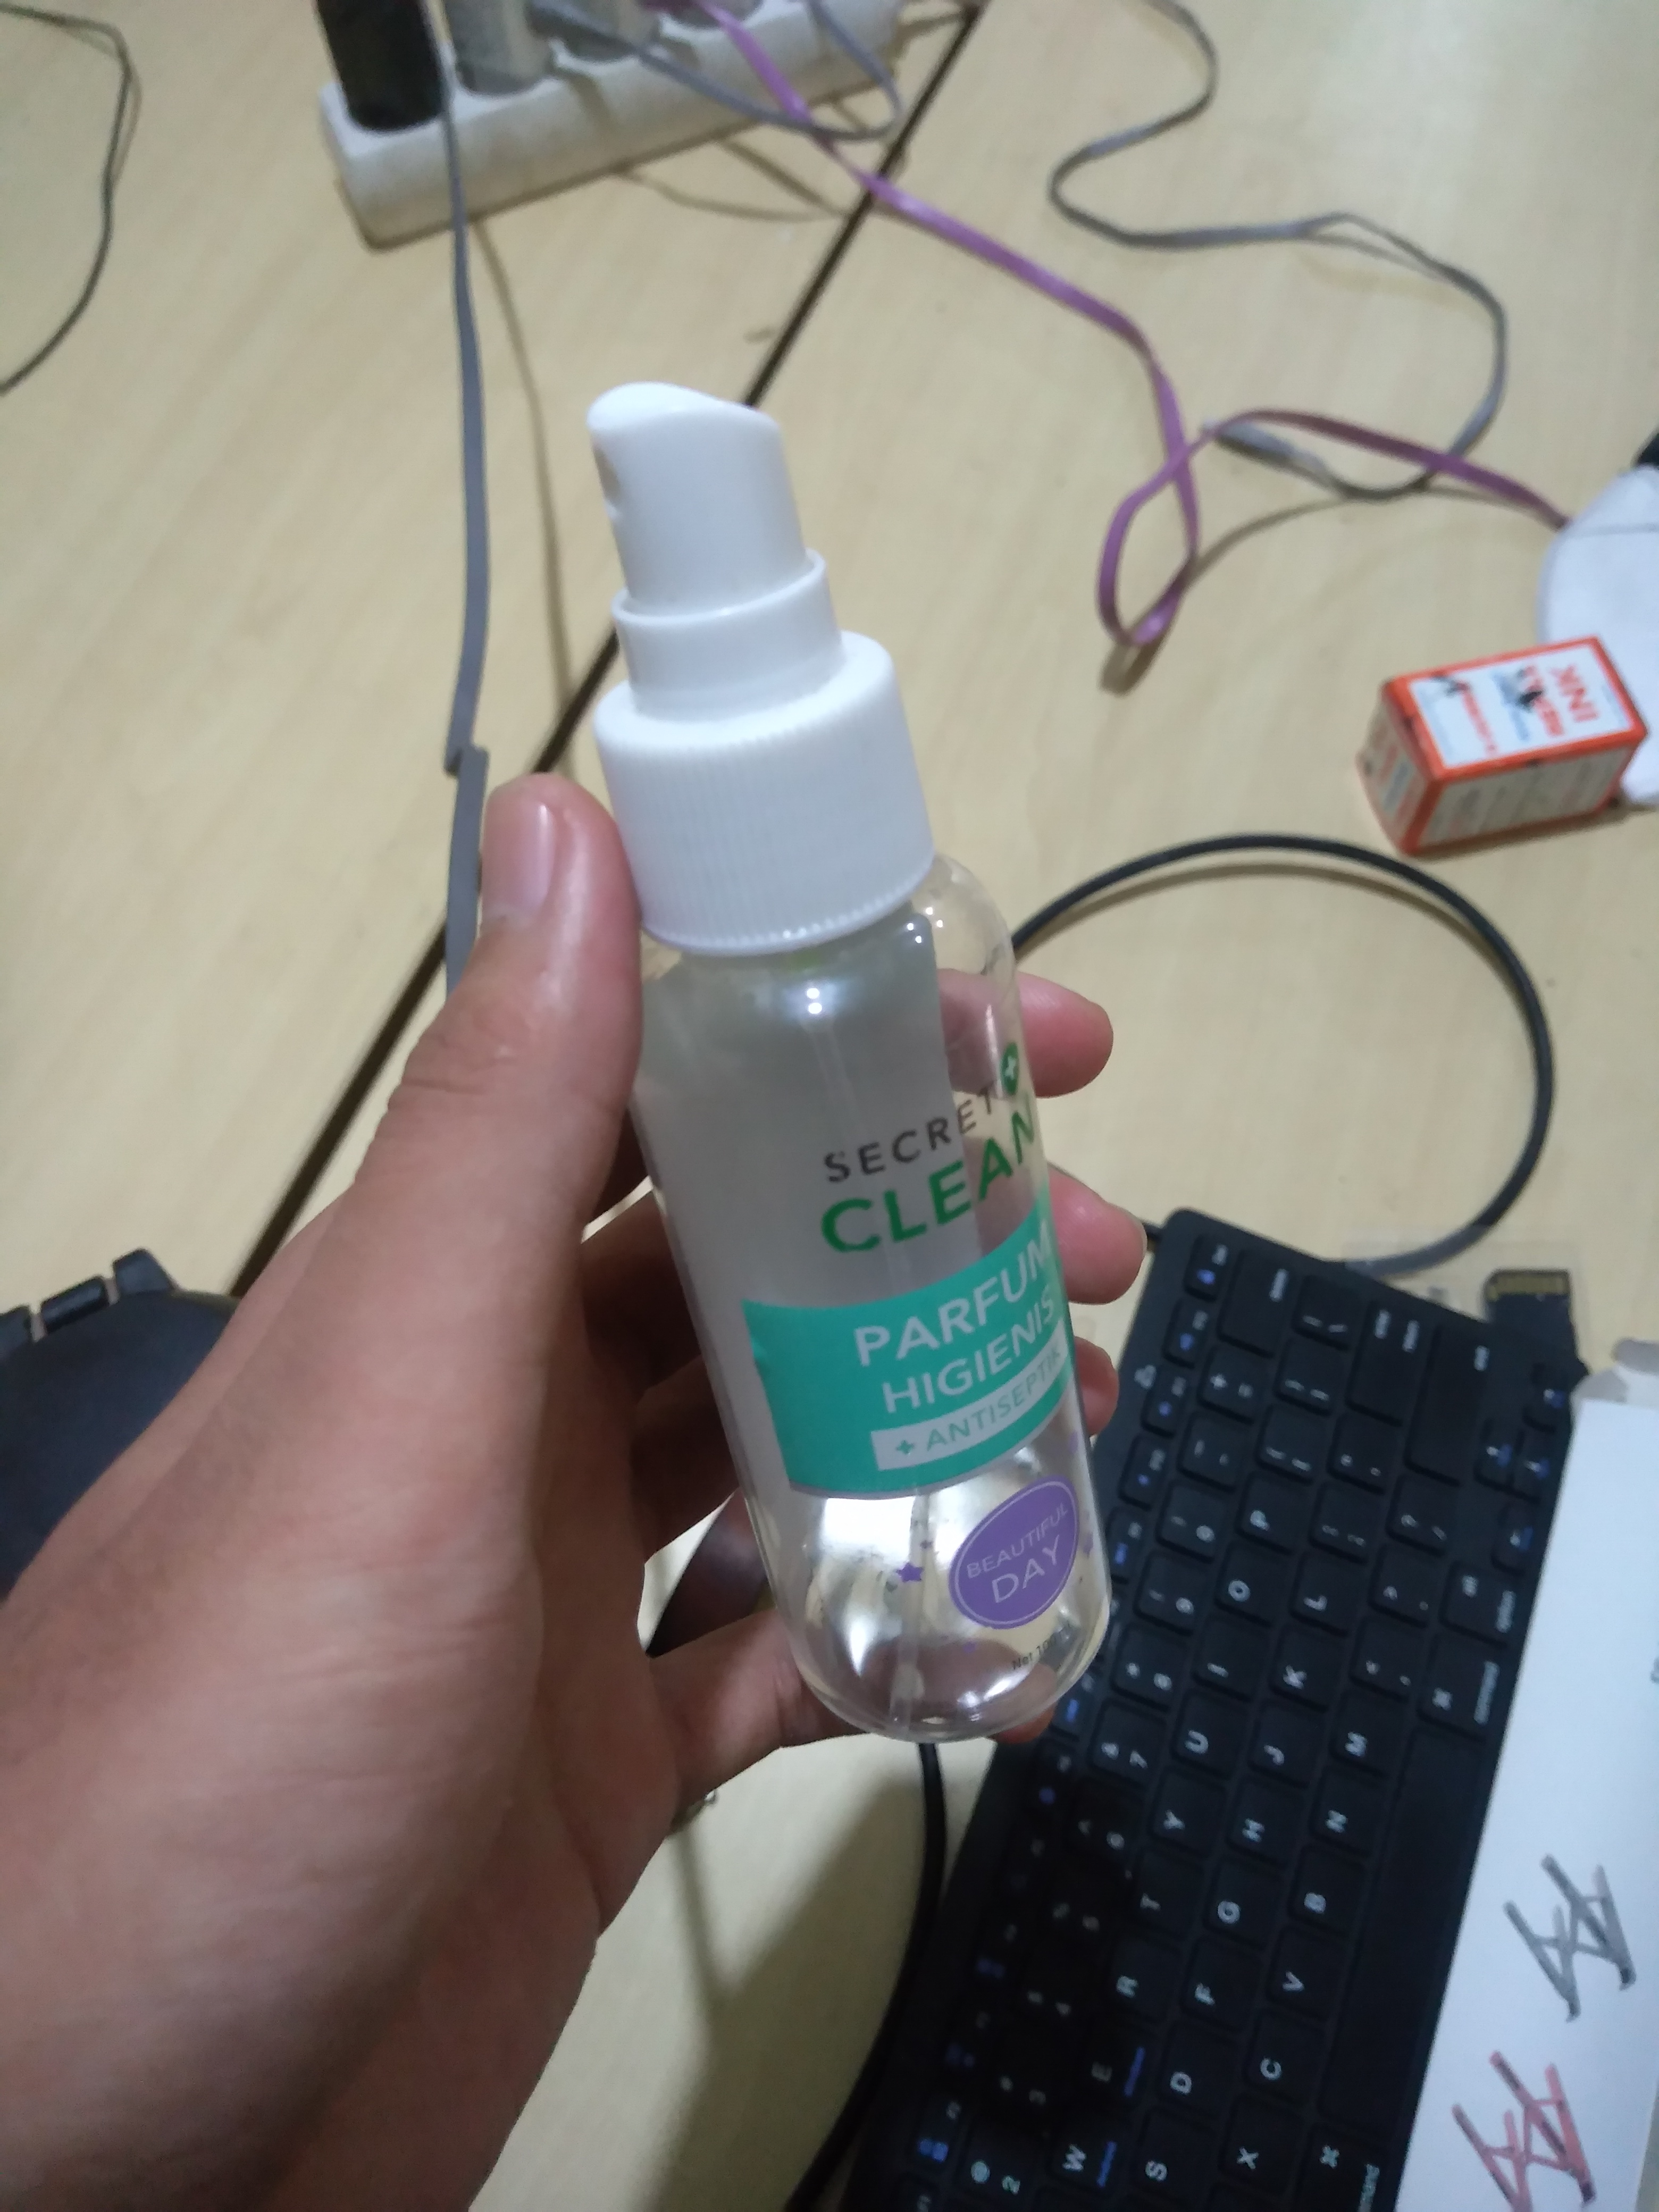hand sanitizer: (514, 314, 1188, 1766)
